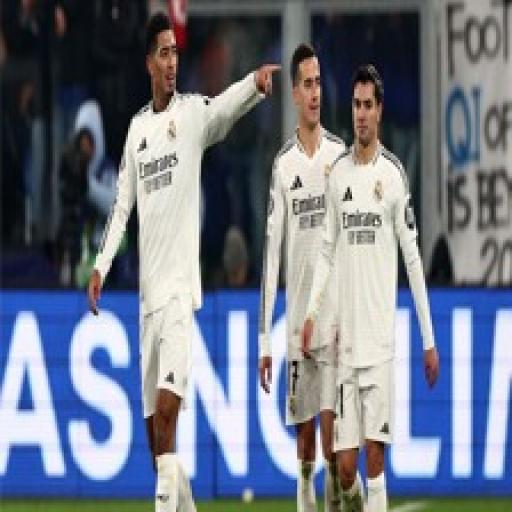human: (80, 11, 283, 512), (295, 67, 442, 512), (253, 37, 346, 512)
